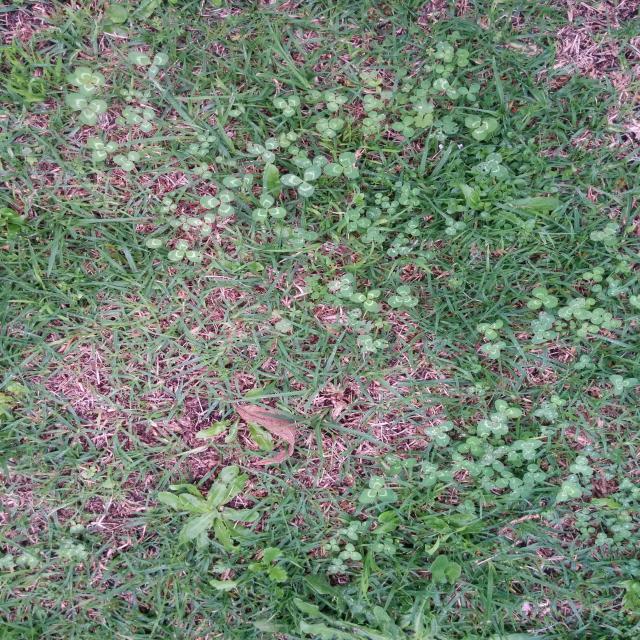Four Leaf Clover: (67, 66, 105, 97), (531, 311, 555, 330)
